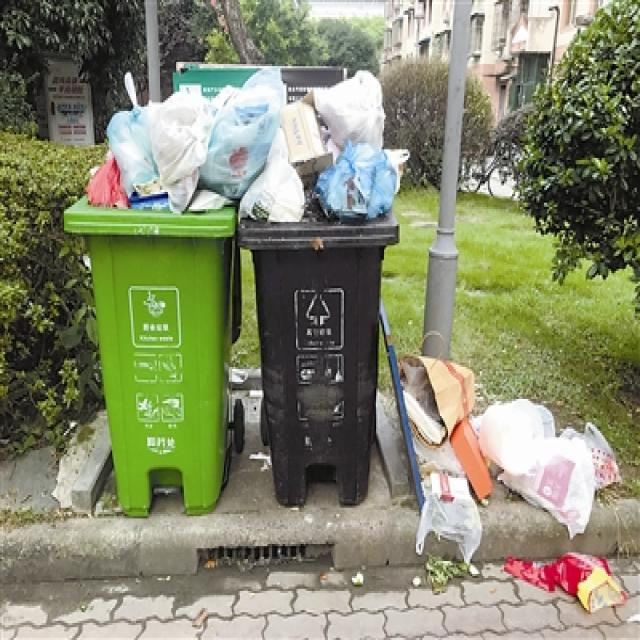garbage: (395, 331, 629, 614)
overflow: (62, 83, 238, 512), (234, 66, 400, 504)
